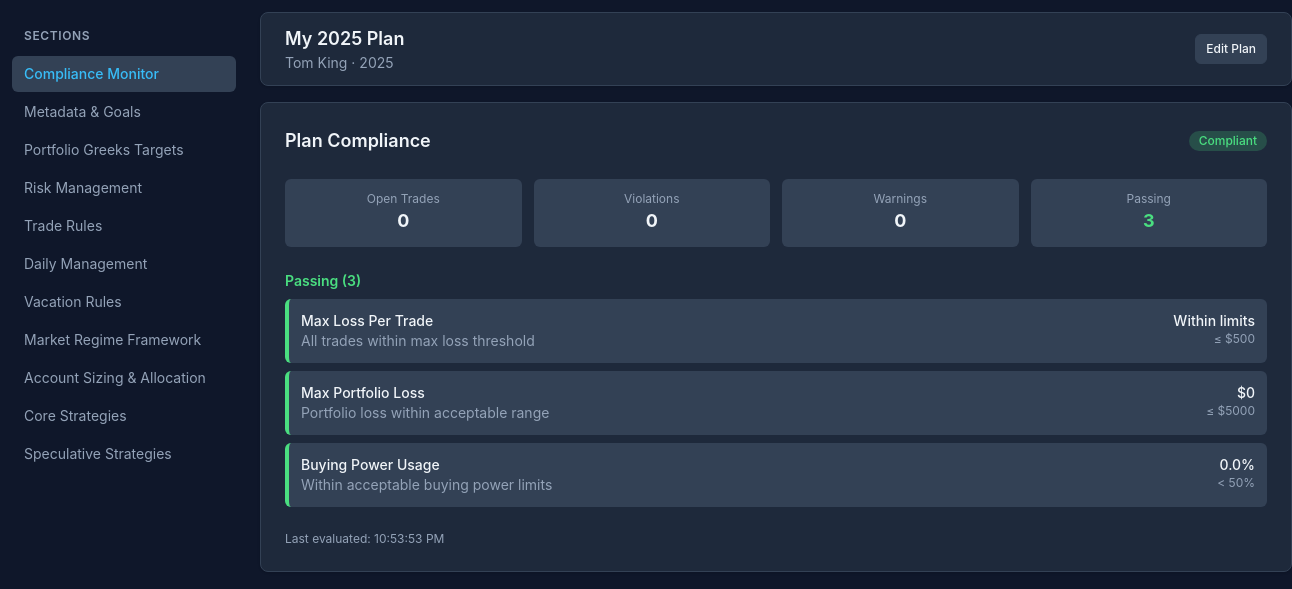
PlanViewer › navigates to Trade Rules section with numbered rules and category badges
Click the button "Trade Rules".
click(124, 226)  # box [12,208,236,244]
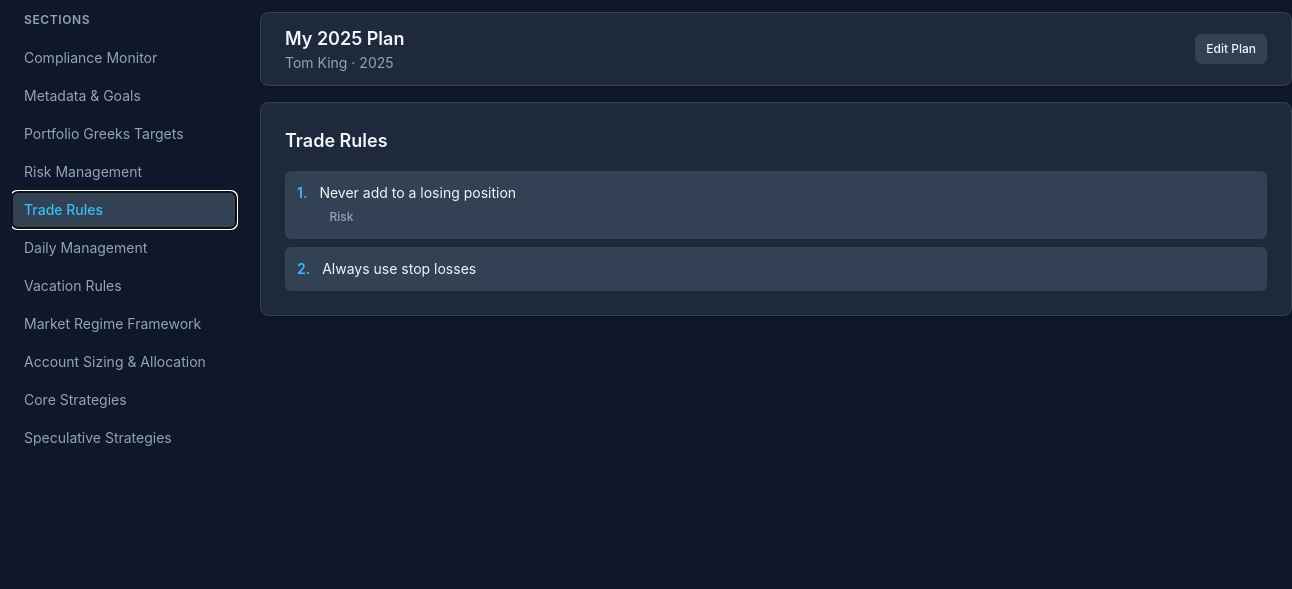
Result: the text "Never add to a losing position" is shown at [319,183,516,203]
Result: the text "Risk" is shown at [319,207,363,227]
Result: the text "Always use stop losses" is shown at [322,259,476,279]
